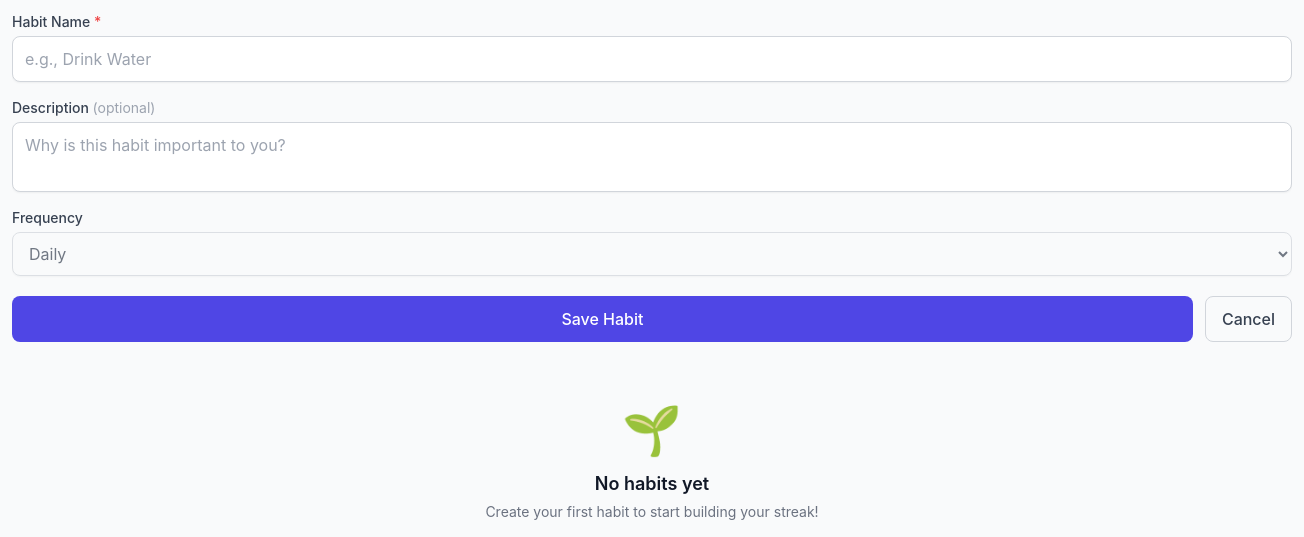
Test: habit form › creates a new habit and renders it in the list
The image size is (1304, 537).
Type "Drink Water" into the field with test id "habit-name-input".
click(652, 59); type("Drink Water")  # box [12, 36, 1292, 82]
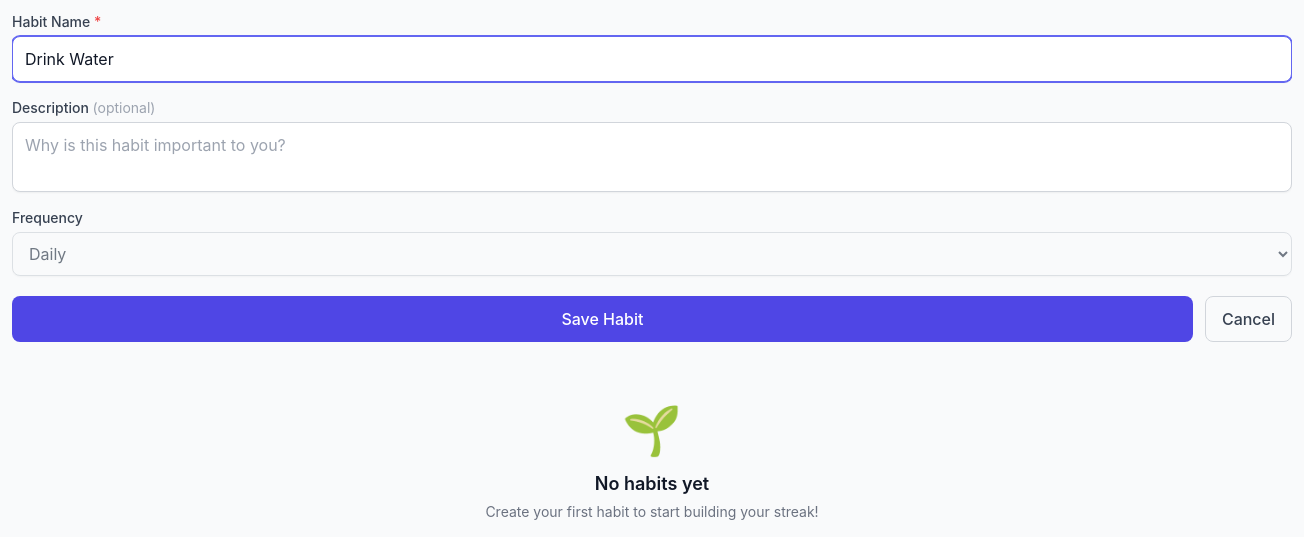
Type "Stay hydrated every day" into the text box with test id "habit-description-input".
click(652, 157); type("Stay hydrated every day")  # box [12, 122, 1292, 192]
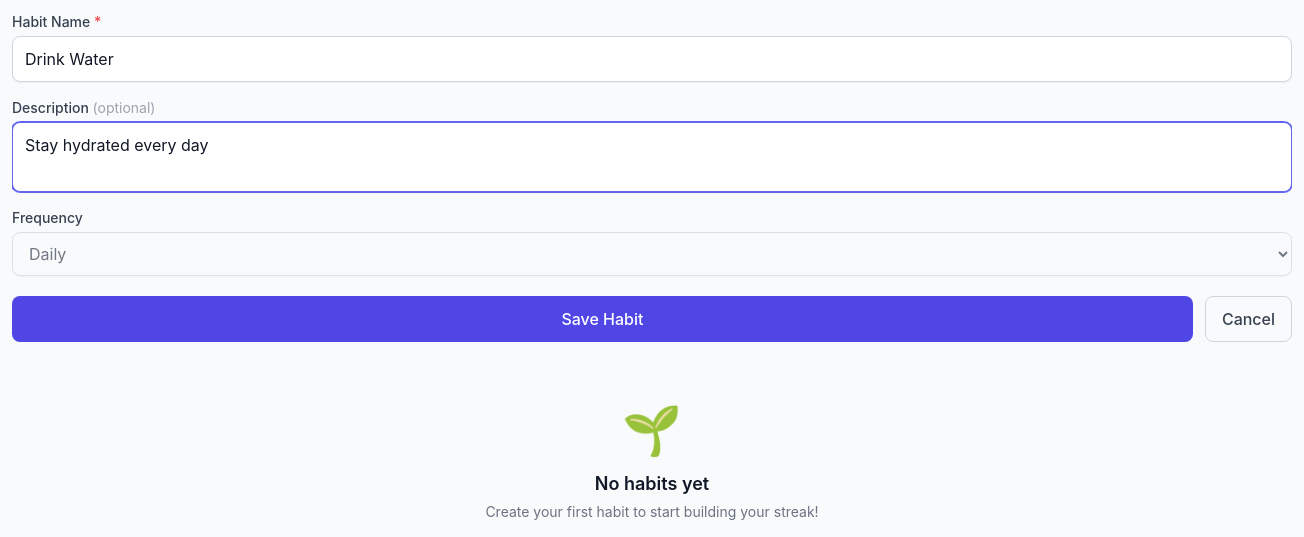
Click the button with test id "habit-save-button".
click(602, 319)  # box [12, 296, 1193, 342]
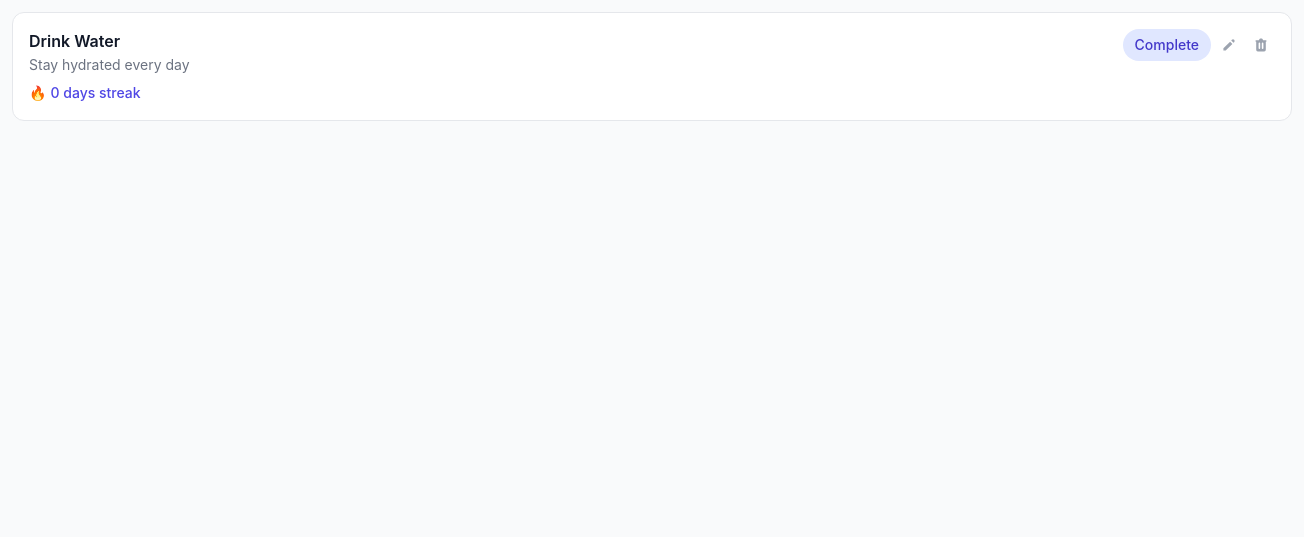
expect the element with test id "habit-card-drink-water" is shown: met, box [12, 12, 1292, 121]
